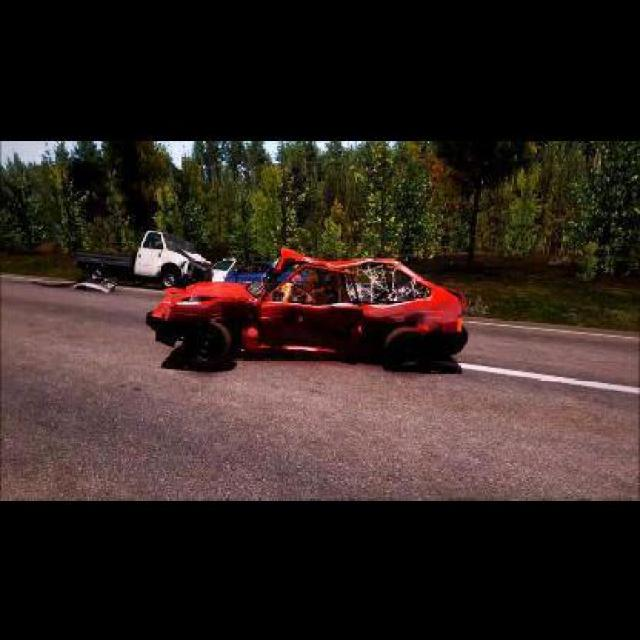accident: (70, 232, 464, 377)
